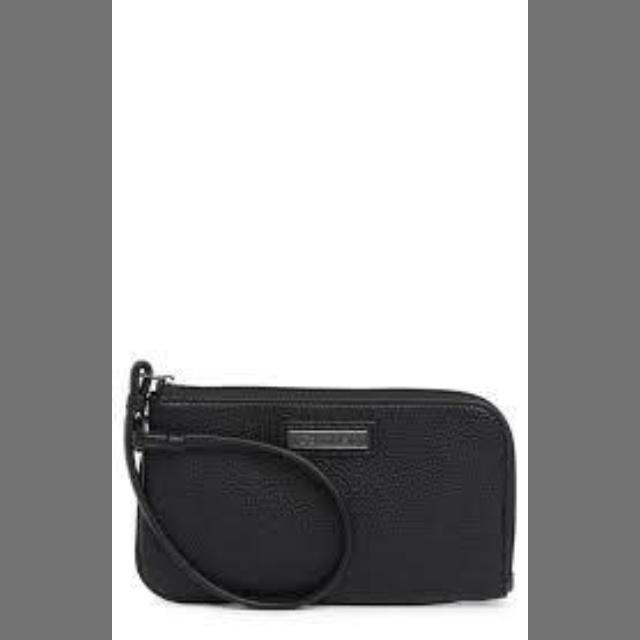Wallet: (144, 383, 503, 601)
